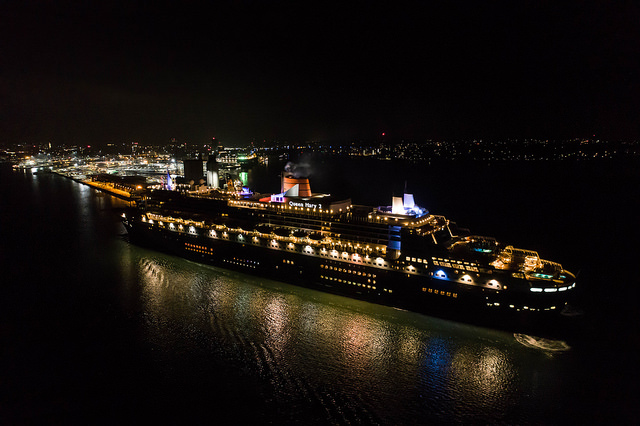cruise_ship: (116, 164, 580, 333)
